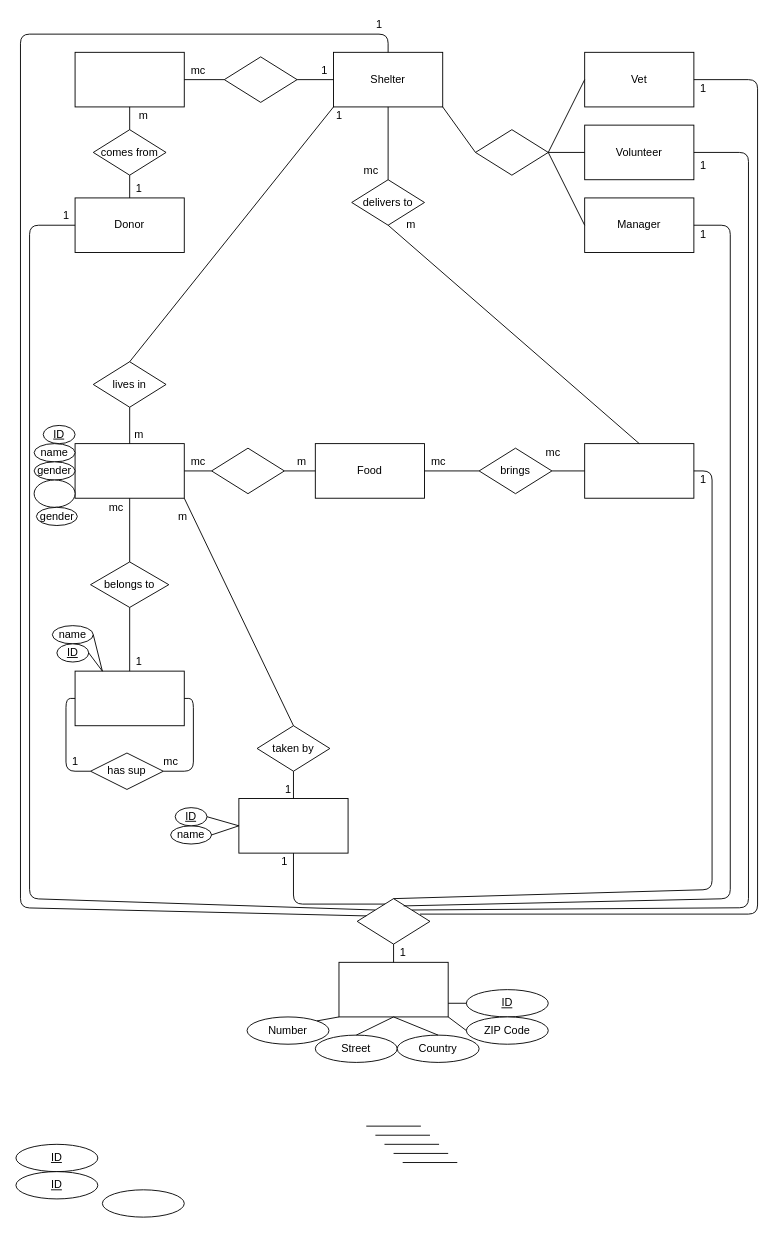
Image size: 774x1233. Some labels were removed from this diagram. The centre of each missing label's shape, as x and y in pixels:
"Address" goes at (x=393, y=989).
"Animal" goes at (x=129, y=470).
"brought in" goes at (x=54, y=493).
"Donation" goes at (x=129, y=79).
"eats" goes at (x=247, y=470).
"goes to" goes at (x=260, y=79).
"has" goes at (x=393, y=921).
"Species" goes at (x=129, y=698).
"Supplier" goes at (x=639, y=470).
"Taker" goes at (x=293, y=825).
"works at" goes at (x=511, y=152).
